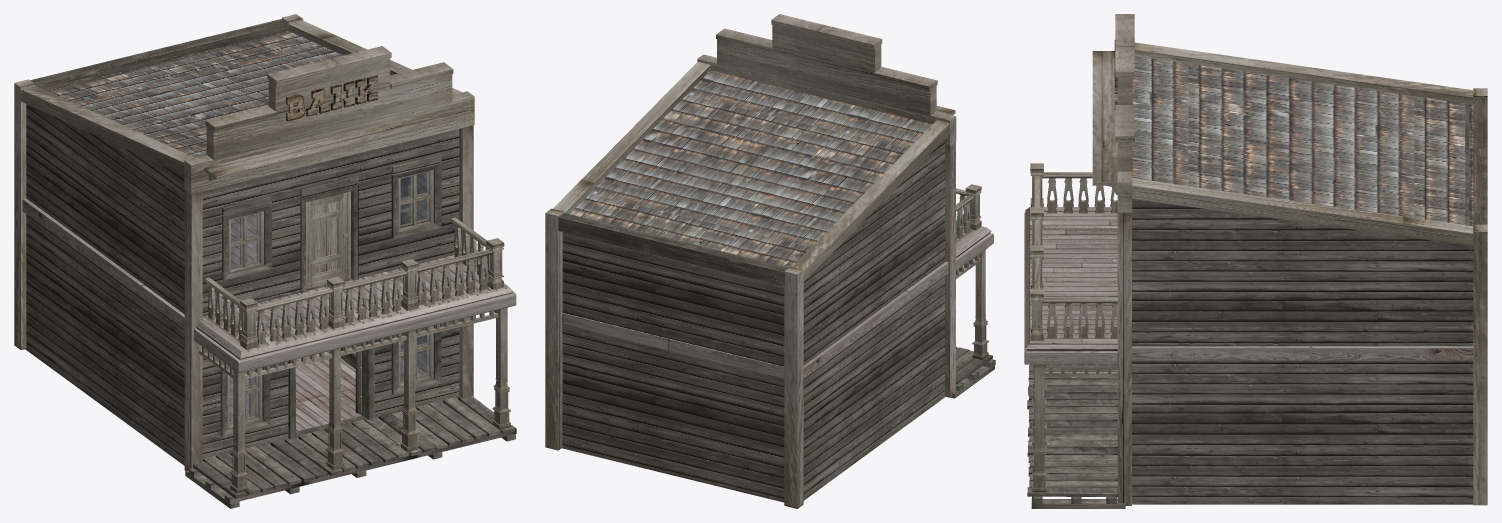
Rendered from banco.glb.
The picture shows the model from 3 angles, left to right: view 1: azimuth 30°, elevation 25°; view 2: azimuth 150°, elevation 25°; view 3: azimuth 270°, elevation 25°; orthographic projection. The views are drawn at different scales.
Parts seen in each view (by area): view 1: Object_5, Object_55, Object_6, Object_4, Object_7, Object_134, Object_99; view 2: Object_5, Object_4, Object_55, Object_6, Object_7; view 3: Object_5, Object_4, Object_55, Object_6, Object_7.
Part boxes in pixels (x1,y1,x2,y2): Object_5: (25, 104, 516, 508); Object_55: (14, 14, 510, 493); Object_6: (22, 198, 516, 431); Object_4: (46, 31, 343, 157); Object_7: (30, 19, 403, 435); Object_134: (229, 172, 428, 423); Object_99: (286, 75, 377, 121); Object_5: (562, 140, 995, 502); Object_4: (570, 70, 931, 267); Object_55: (545, 14, 988, 508); Object_6: (562, 220, 993, 378); Object_7: (558, 213, 788, 286); Object_5: (1027, 199, 1473, 508); Object_4: (1132, 56, 1473, 228); Object_55: (1030, 14, 1487, 505); Object_6: (1024, 207, 1473, 364); Object_7: (1465, 97, 1487, 225).
Bounding box in the file's own units: 7.22 × 9.07 × 9.68.
Materials: 9 (8 with a texture image).
